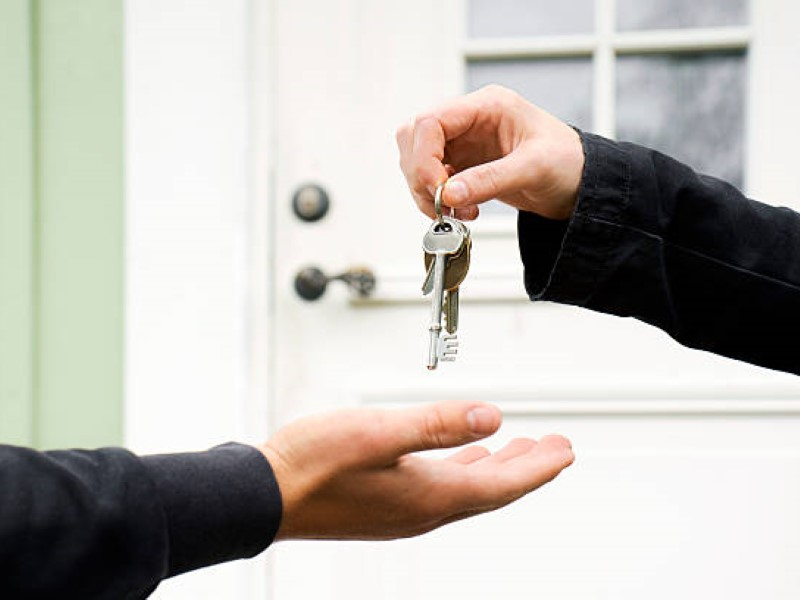key: (418, 213, 475, 370)
